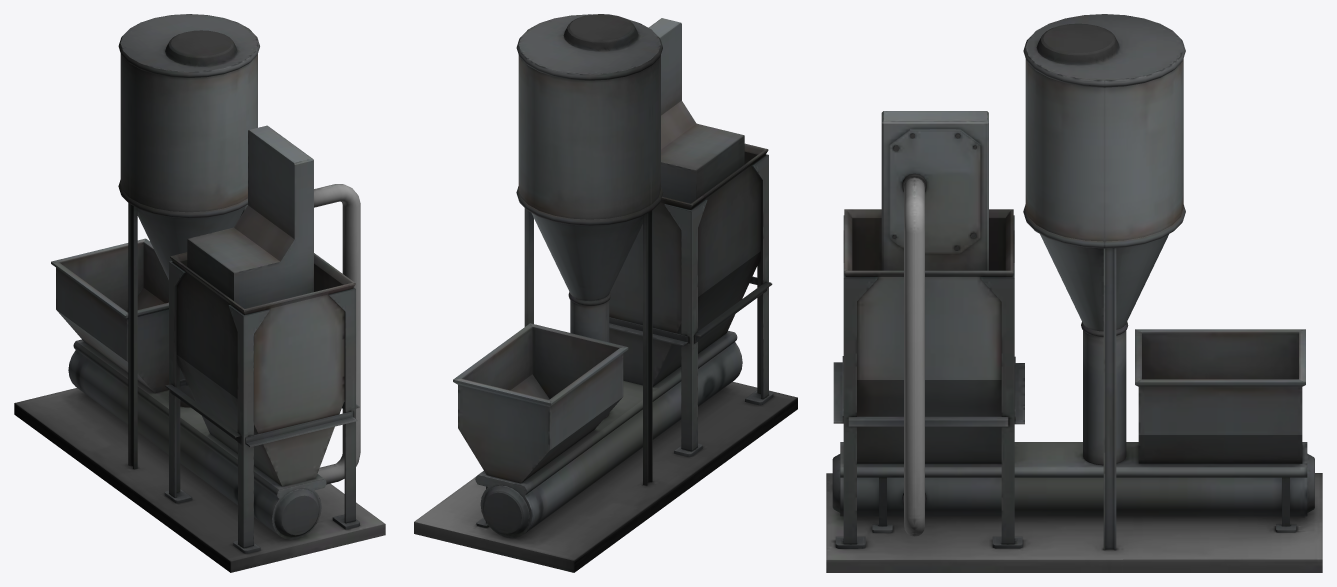
3 renders of one model, left to right at view 1: azimuth 30°, elevation 25°; view 2: azimuth 150°, elevation 25°; view 3: azimuth 270°, elevation 25°, orthographic. The views are drawn at different scales.
Parts seen in each view (by area): view 1: body0_model0_lod0_mesh0; view 2: body0_model0_lod0_mesh0; view 3: body0_model0_lod0_mesh0.
Boxes of the visible parts, box(x1,y1,x2,y2) form: body0_model0_lod0_mesh0: box(14, 14, 385, 572); body0_model0_lod0_mesh0: box(414, 14, 797, 572); body0_model0_lod0_mesh0: box(826, 14, 1322, 572).
Bounding box in the file's own units: 78.9 × 194 × 177.
1 material, 1 textured.
